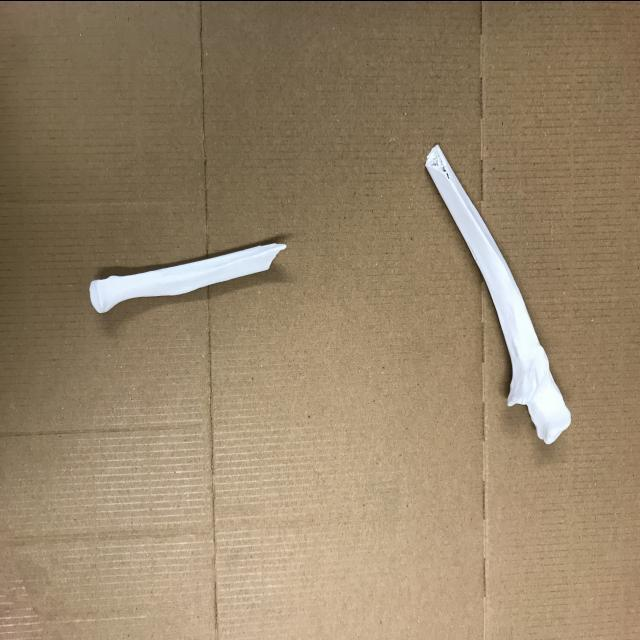bone: (418, 140, 574, 448), (84, 232, 290, 320)
